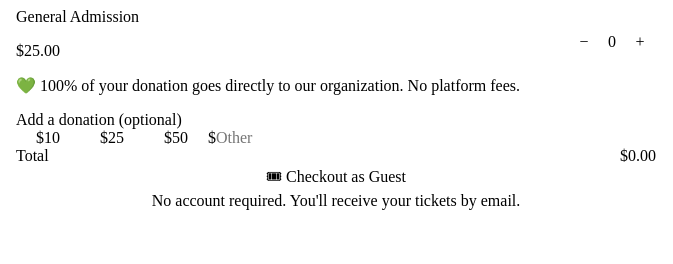
Test: TicketSelector › order summary & checkout › displays the correct grand total
Click the button named "Increase quantity": (640, 42) [624, 26, 656, 58]
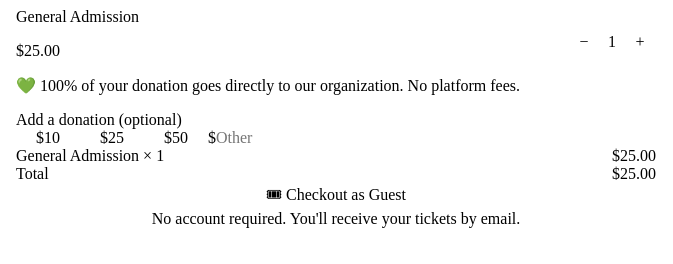
Click the button named "Increase quantity": (640, 42) [624, 26, 656, 58]
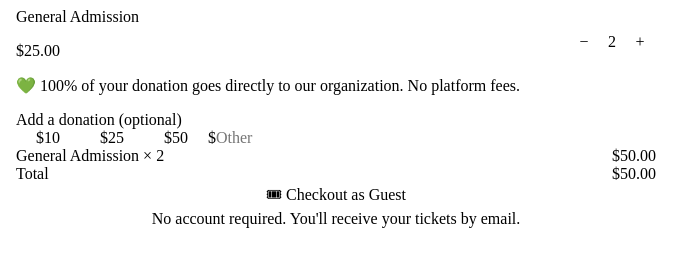
Click the button "$25": (112, 138) [80, 129, 144, 147]
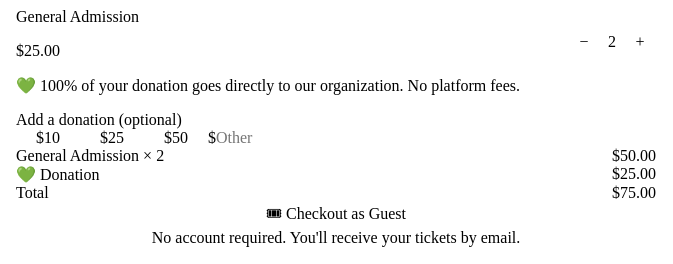
Check: the element with class "ts-summary-total" shows "$75.00", box [612, 184, 656, 201]
